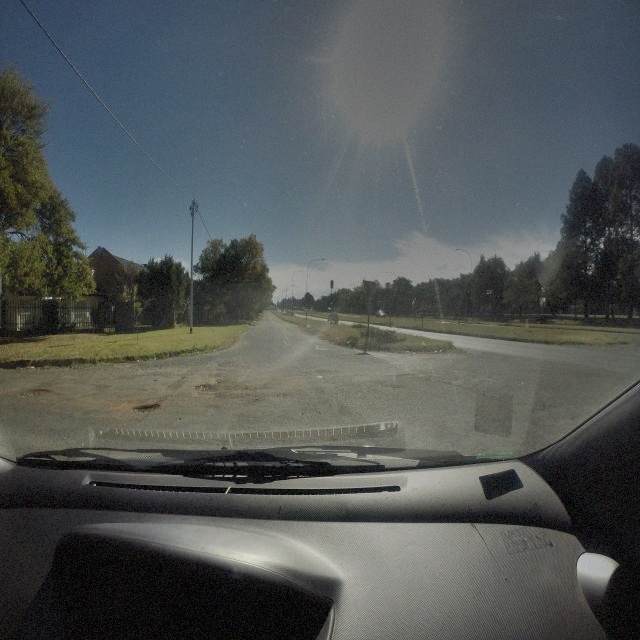pothole: (20, 387, 49, 398), (132, 403, 161, 413), (194, 384, 218, 396)
